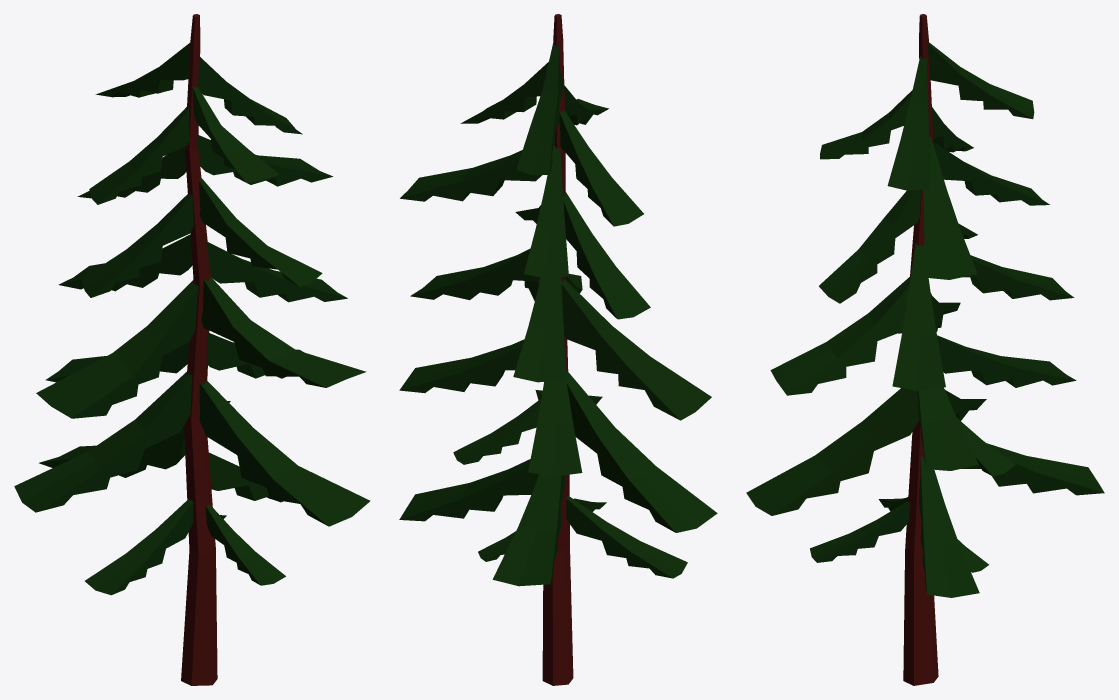
The model's file is Tree_Pine_S_flat.gltf.
3 views of the same model, side by side, from view 1: azimuth 30°, elevation 25°; view 2: azimuth 150°, elevation 25°; view 3: azimuth 270°, elevation 25° (orthographic).
Parts seen in each view (by area): view 1: Tree_Pine_S_flat; view 2: Tree_Pine_S_flat; view 3: Tree_Pine_S_flat.
Boxes of the visible parts, x1,y1,x2,y2 form: Tree_Pine_S_flat: (14, 14, 370, 685); Tree_Pine_S_flat: (399, 14, 717, 685); Tree_Pine_S_flat: (746, 14, 1104, 685).
Size of the model in its own units: 7.92 by 16.68 by 8.18.
2 materials, 2 textured.
